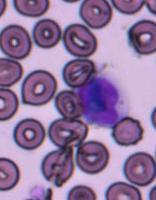M: (72, 73, 129, 128)
